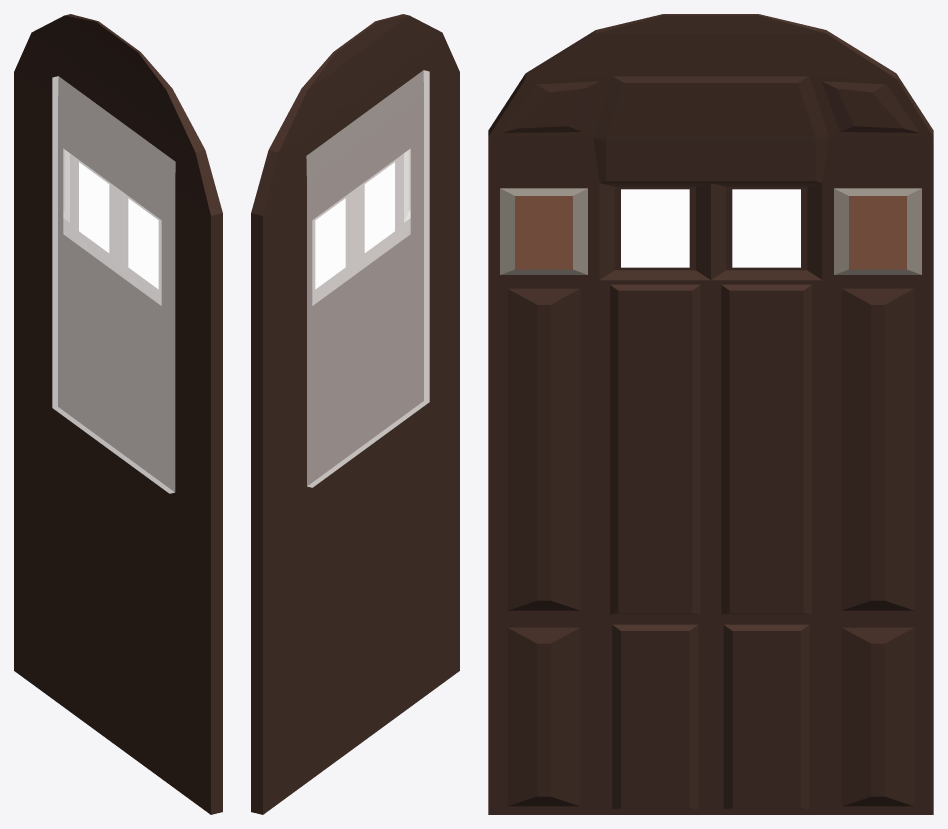
File: door.glb
The picture shows the model from 3 angles, left to right: view 1: azimuth 30°, elevation 25°; view 2: azimuth 150°, elevation 25°; view 3: azimuth 270°, elevation 25°; orthographic projection. The views are drawn at different scales.
Visible parts, largest first — view 1: Cube, Cube.001; view 2: Cube, Cube.001; view 3: Cube, Cube.001.
Part boxes in pixels (x1,y1,x2,y2): Cube: (14,14,222,814); Cube.001: (52,76,175,493); Cube: (251,14,459,814); Cube.001: (306,70,429,487); Cube: (488,14,933,814); Cube.001: (621,189,800,267).
Bounding box in the file's own units: 0.4292 × 12.49 × 6.33.
